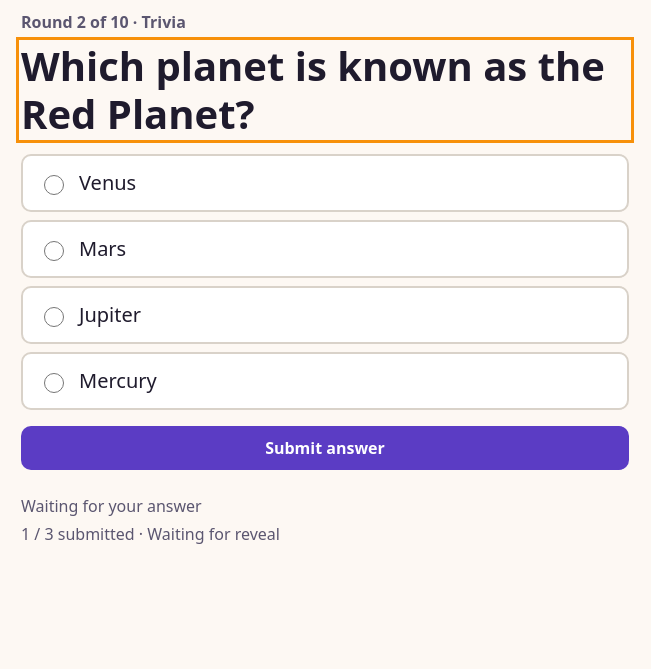
Test: the round changes under you › refetches when a submit fails because the round was locked
The width and height of the screenshot is (651, 669).
Click the radio button labelled "Mars" at {"x": 54, "y": 250}, box [44,240,64,260]
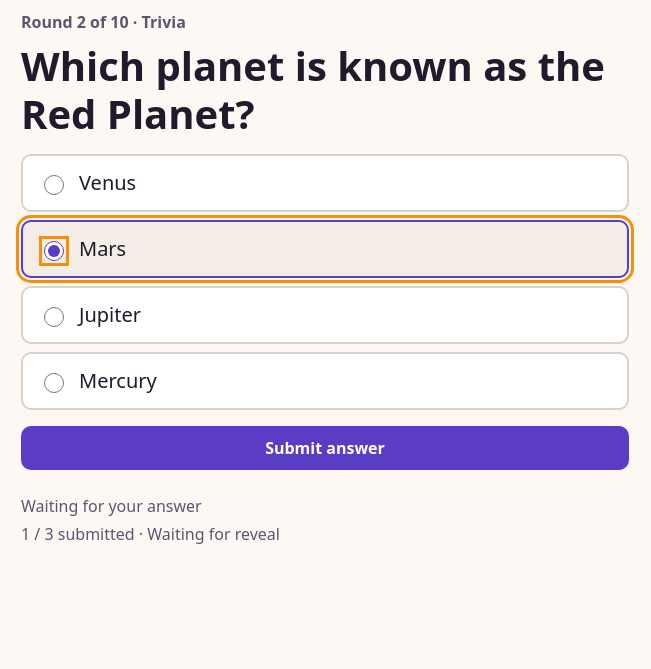
Click the button "Submit answer" at {"x": 325, "y": 448}, box [21,426,629,470]
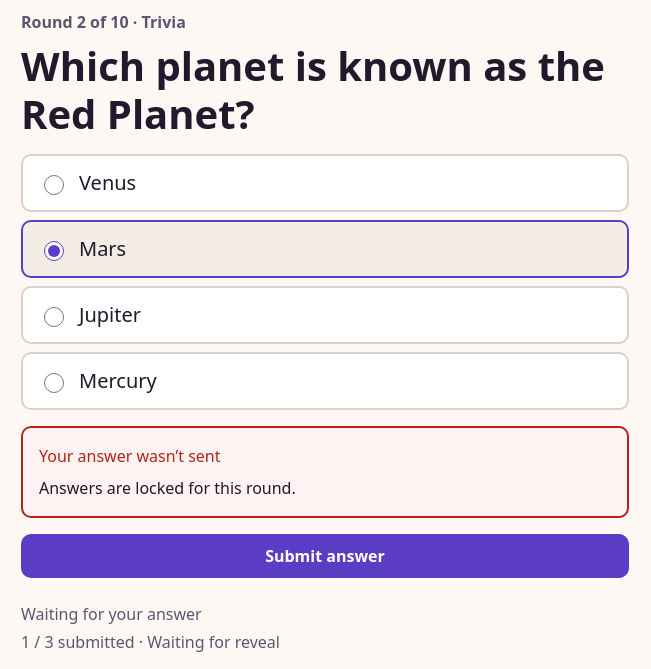
Result: the message "Your answer wasn’t sent Answers are locked for this round." is shown at [21,426,629,518]
